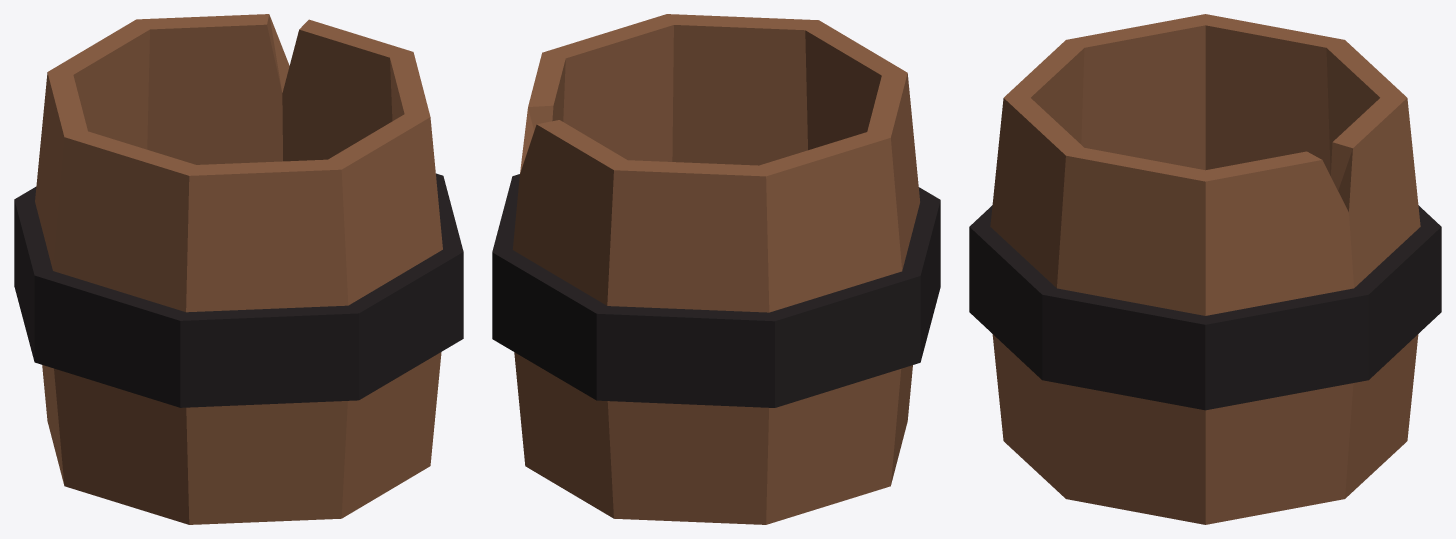
The model's file is barrelWithoutLid.fbx.
3 renders of one model, left to right at view 1: azimuth 30°, elevation 25°; view 2: azimuth 150°, elevation 25°; view 3: azimuth 270°, elevation 25°, orthographic.
Visible parts, largest first — view 1: barrelWithoutLid; view 2: barrelWithoutLid; view 3: barrelWithoutLid.
Part boxes in pixels (box(x1,y1,x2,y2)): barrelWithoutLid: box(14, 14, 463, 524); barrelWithoutLid: box(492, 14, 940, 524); barrelWithoutLid: box(969, 14, 1441, 524).
Bounding box in the file's own units: 62.52 × 51.01 × 63.57.
Materials: 1 (1 with a texture image).
